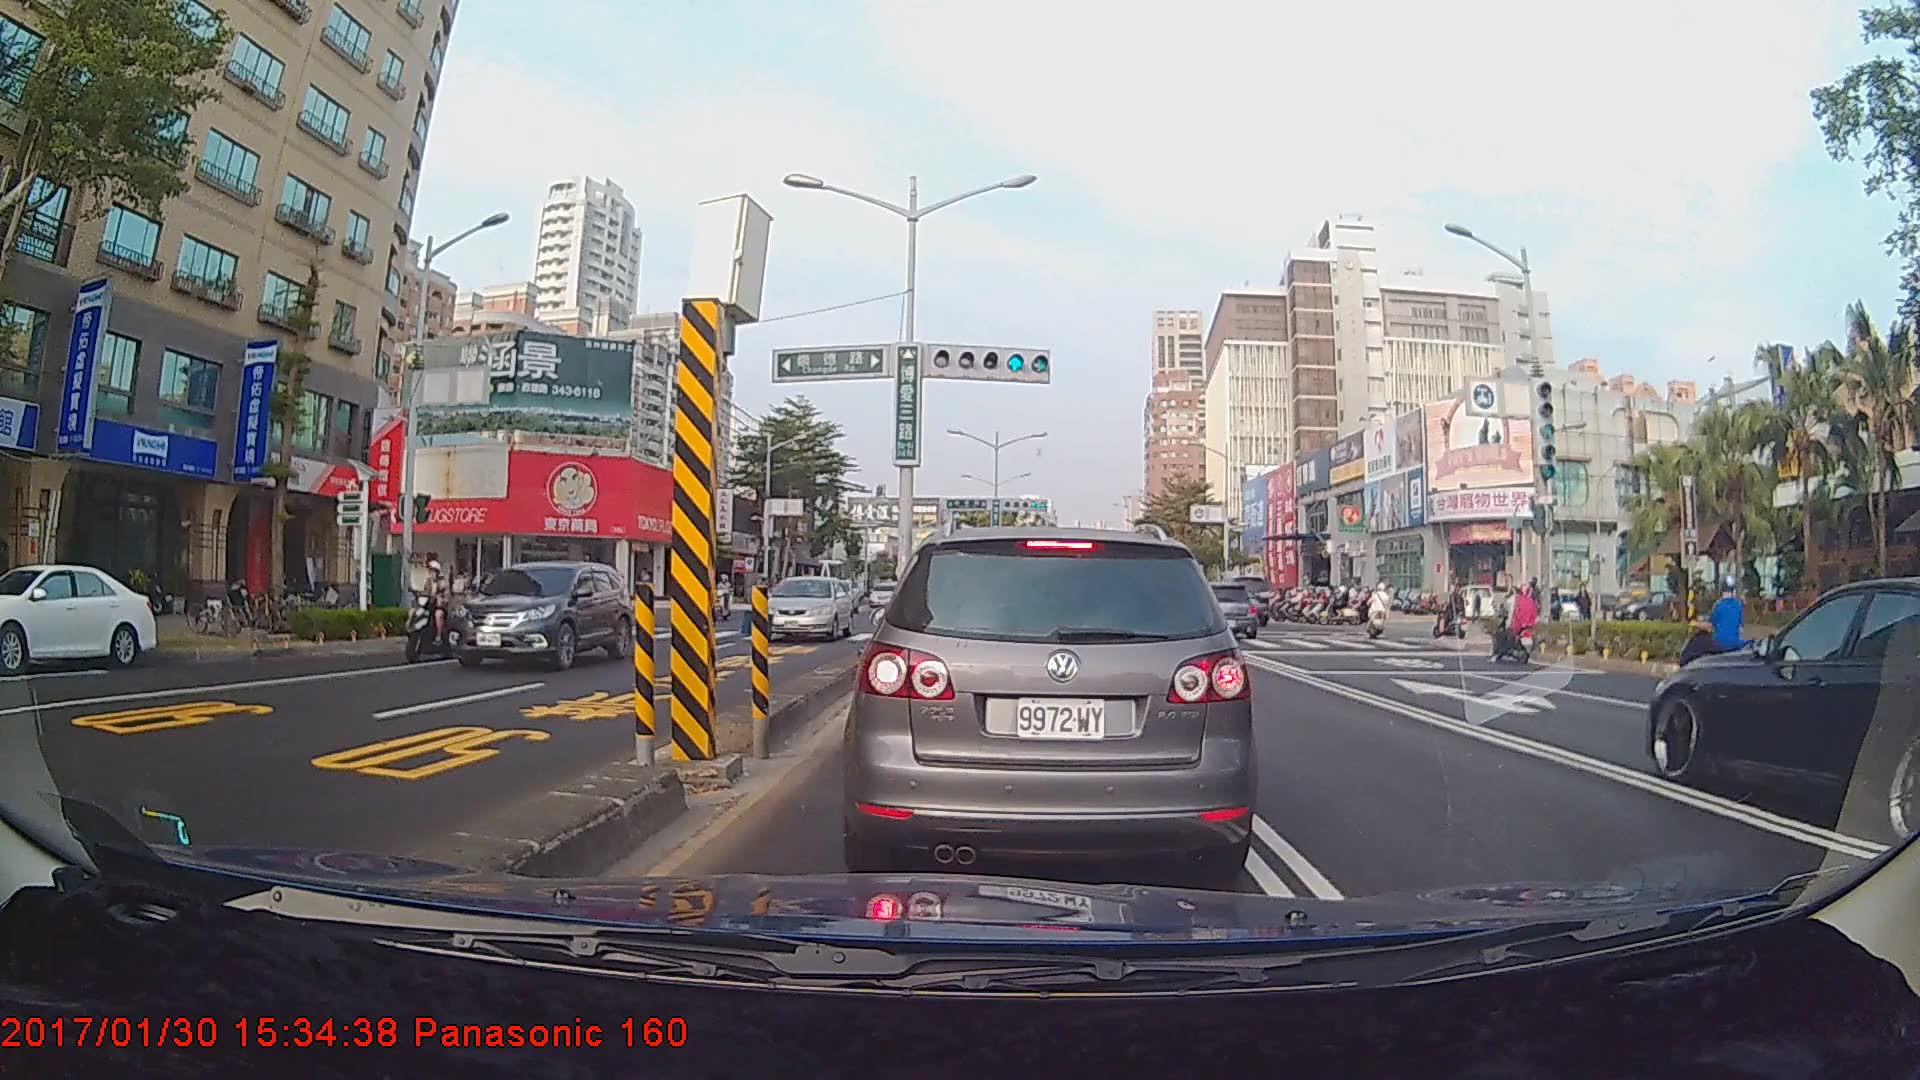rider: (398, 565, 463, 661), (1485, 582, 1548, 668), (466, 567, 529, 650), (1436, 582, 1473, 646), (1363, 582, 1398, 645)
vehicle: (853, 522, 1250, 882), (1642, 576, 1920, 850), (447, 558, 632, 670), (0, 561, 157, 671), (756, 574, 854, 642), (1183, 580, 1258, 639)
